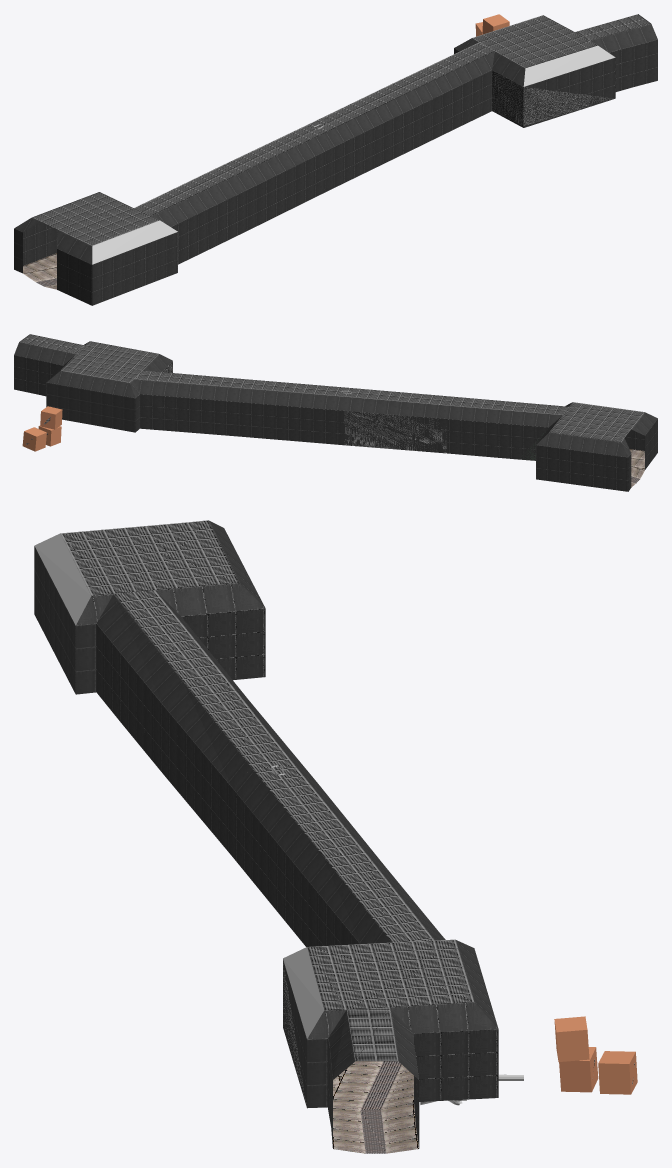
The model's file is dam17.obj.
3 views of the same model, one above another, from view 1: azimuth 30°, elevation 25°; view 2: azimuth 150°, elevation 25°; view 3: azimuth 270°, elevation 25° (orthographic). The views are drawn at different scales.
Visible parts, largest first — view 1: 020_61410439_c.bmp, 015_61410439_c.bmp, 009_61410439_c.bmp, 024_1BE3C87_c.bmp, 013_1BE3C87_c.bmp, 018_1BE3C87_c.bmp, 046_3B6FB66_c.bmp, 026_3B6FB66_c.bmp, 043_3B6FB66_c.bmp, 022_2667E92D_c.bmp, 045_3B6FB66_c.bmp; view 2: 020_61410439_c.bmp, 015_61410439_c.bmp, 009_61410439_c.bmp, 024_1BE3C87_c.bmp, 013_1BE3C87_c.bmp, 018_1BE3C87_c.bmp, 037_3B6FB66_c.bmp, 006_460D68AC_c.bmp, 000_460D68AC_c.bmp, 022_2667E92D_c.bmp, 003_460D68AC_c.bmp; view 3: 020_61410439_c.bmp, 024_1BE3C87_c.bmp, 009_61410439_c.bmp, 015_61410439_c.bmp, 013_1BE3C87_c.bmp, 018_1BE3C87_c.bmp, 011_2667E92D_c.bmp, 026_3B6FB66_c.bmp, 046_3B6FB66_c.bmp, 012_11CAEF08_c.bmp, 006_460D68AC_c.bmp, 000_460D68AC_c.bmp (+1 smaller).
Part boxes in pixels (box(x1,y1,x2,y2)): 020_61410439_c.bmp: box(14, 134, 330, 305); 015_61410439_c.bmp: box(323, 51, 494, 189); 009_61410439_c.bmp: box(454, 23, 657, 127); 024_1BE3C87_c.bmp: box(32, 125, 322, 245); 013_1BE3C87_c.bmp: box(472, 14, 650, 68); 018_1BE3C87_c.bmp: box(307, 42, 494, 133); 046_3B6FB66_c.bmp: box(523, 45, 615, 86); 026_3B6FB66_c.bmp: box(92, 220, 177, 264); 043_3B6FB66_c.bmp: box(523, 87, 609, 125); 022_2667E92D_c.bmp: box(23, 253, 56, 289); 045_3B6FB66_c.bmp: box(492, 71, 523, 125); 020_61410439_c.bmp: box(344, 397, 657, 491); 015_61410439_c.bmp: box(134, 379, 348, 445); 009_61410439_c.bmp: box(14, 341, 172, 432); 024_1BE3C87_c.bmp: box(349, 388, 644, 442); 013_1BE3C87_c.bmp: box(19, 334, 158, 382); 018_1BE3C87_c.bmp: box(134, 370, 355, 396); 037_3B6FB66_c.bmp: box(344, 412, 446, 453); 006_460D68AC_c.bmp: box(22, 427, 46, 451); 000_460D68AC_c.bmp: box(40, 406, 62, 429); 022_2667E92D_c.bmp: box(629, 449, 644, 487); 003_460D68AC_c.bmp: box(38, 425, 61, 446); 020_61410439_c.bmp: box(34, 520, 316, 856); 024_1BE3C87_c.bmp: box(60, 520, 294, 768); 009_61410439_c.bmp: box(283, 940, 498, 1148); 015_61410439_c.bmp: box(232, 765, 445, 946); 013_1BE3C87_c.bmp: box(307, 939, 474, 1061); 018_1BE3C87_c.bmp: box(252, 765, 434, 942); 011_2667E92D_c.bmp: box(333, 1061, 418, 1153); 026_3B6FB66_c.bmp: box(34, 533, 90, 625); 046_3B6FB66_c.bmp: box(283, 947, 324, 1038); 012_11CAEF08_c.bmp: box(360, 1061, 401, 1153); 006_460D68AC_c.bmp: box(598, 1051, 637, 1094); 000_460D68AC_c.bmp: box(554, 1016, 589, 1061).
Size of the model in its own units: 0.648 by 0.056 by 0.2992.
